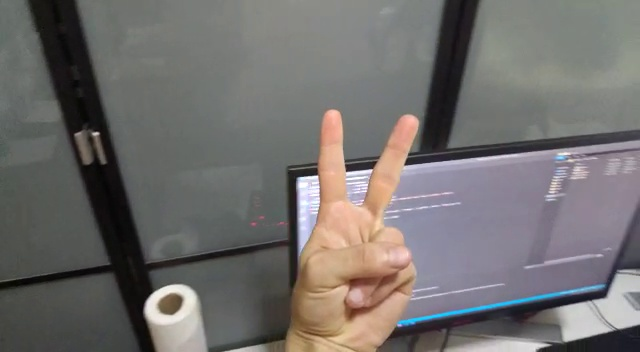Peace: (281, 105, 434, 350)
